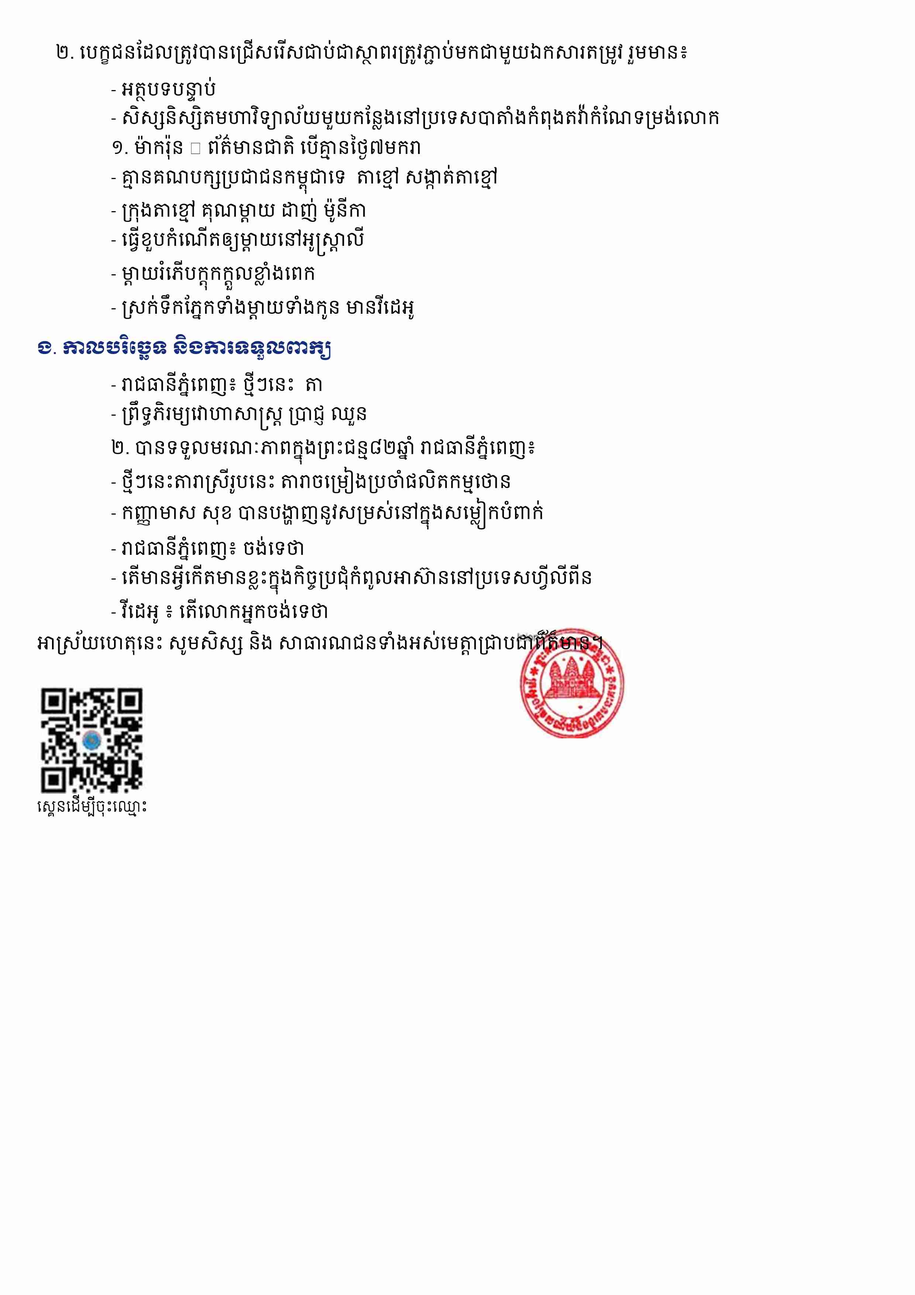decorative: (37, 683, 148, 794), (517, 628, 627, 738)
text: (55, 39, 689, 65), (111, 104, 720, 130), (111, 564, 593, 595), (37, 630, 604, 655), (111, 498, 544, 530), (111, 434, 536, 465), (111, 165, 498, 194), (111, 467, 512, 494), (111, 134, 422, 160), (111, 294, 415, 320), (111, 226, 365, 257), (111, 401, 368, 431), (37, 334, 331, 360), (111, 197, 367, 223), (111, 260, 316, 291), (111, 598, 329, 624), (111, 371, 324, 397), (111, 535, 305, 561), (111, 77, 216, 102), (37, 794, 148, 817)
